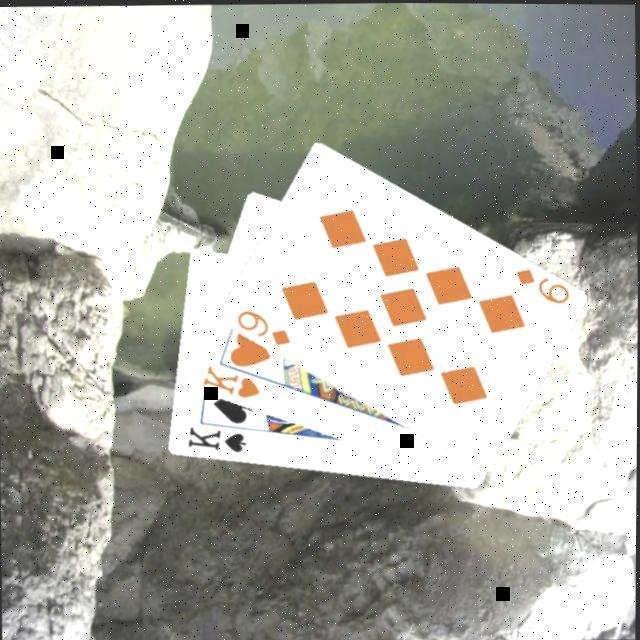9D: (512, 264, 574, 308), (233, 306, 294, 349)
KH: (199, 362, 264, 402)
KS: (184, 424, 250, 458)
